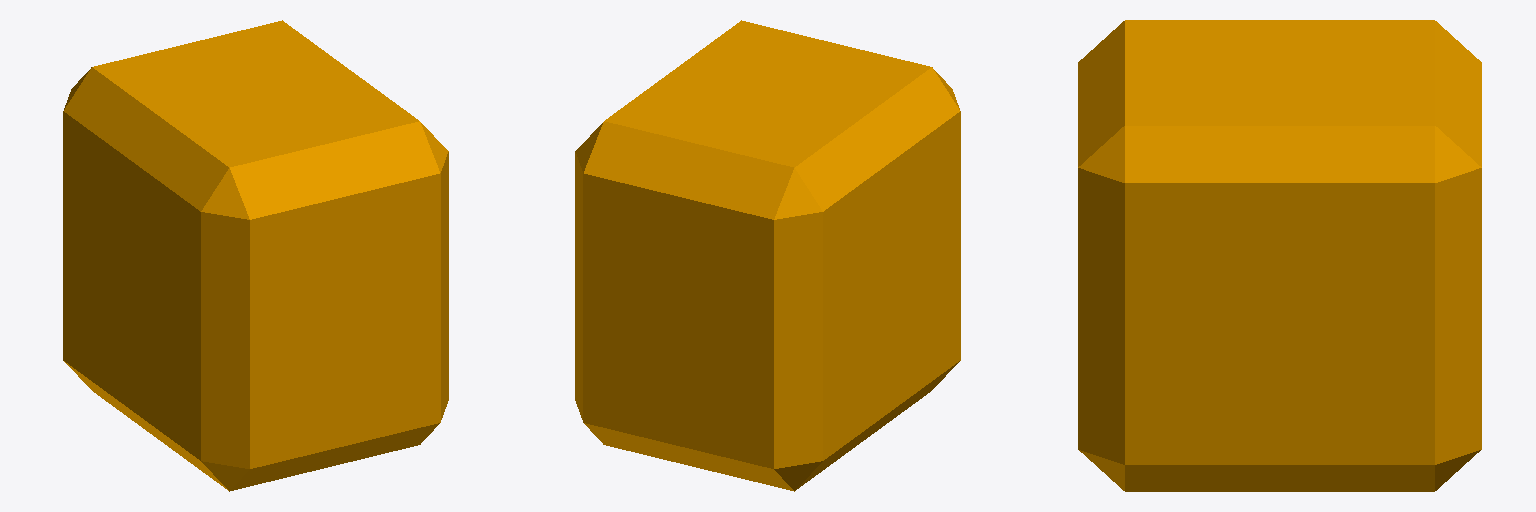
robot.urdf — object:
<?xml version="1.0"?>
<robot name="object">
  <link name="object">
    <visual>
      <origin xyz="0 0 0"/>
      <geometry>
        <mesh filename="meshes/set2/set_obj10_thin_block_corner.obj" scale=".03 .03 .03"/>
      </geometry>
    </visual>
    <collision>
  <origin xyz="0 0 0"/>
  <geometry>
    <mesh filename="meshes/set2/set_obj10_thin_block_corner_0decompose.obj" scale=".03 .03 .03"/>
<!--          <mesh filename="meshes/custom/obj0_ball.obj" scale=".05 .05 .05"/>-->
  </geometry>
</collision>

<!--    <collision>-->
<!--      <origin xyz="0 0 0"/>-->
<!--      <geometry>-->
<!--        <mesh filename="meshes/set2/set_obj10_thin_block_corner.obj" scale=".03 .03 .03"/>-->
<!--&lt;!&ndash;          <mesh filename="meshes/custom/obj0_ball.obj" scale=".05 .05 .05"/>&ndash;&gt;-->
<!--      </geometry>-->
<!--    </collision>-->
    <inertial>
      <density value="1000.0"/>
    </inertial>
  </link>
</robot>

--- Render facts (derived) ---
3 views of the same robot in one strip: view 1: azimuth 30°, elevation 25°; view 2: azimuth 150°, elevation 25°; view 3: azimuth 270°, elevation 25° (orthographic).
Model object with 1 links and 0 joints (none), rooted at object, posed every joint at zero.
Visible links, largest first — view 1: object; view 2: object; view 3: object.
Boxes of the visible links, x1=… form: object: x1=63, y1=20, x2=448, y2=491; object: x1=575, y1=20, x2=960, y2=491; object: x1=1078, y1=20, x2=1481, y2=491.
Size in the robot's own frame: 0.048 by 0.06 by 0.06 metres.
Meshes: 1 distinct files referenced, 1 mesh visuals loaded (1 OBJ).